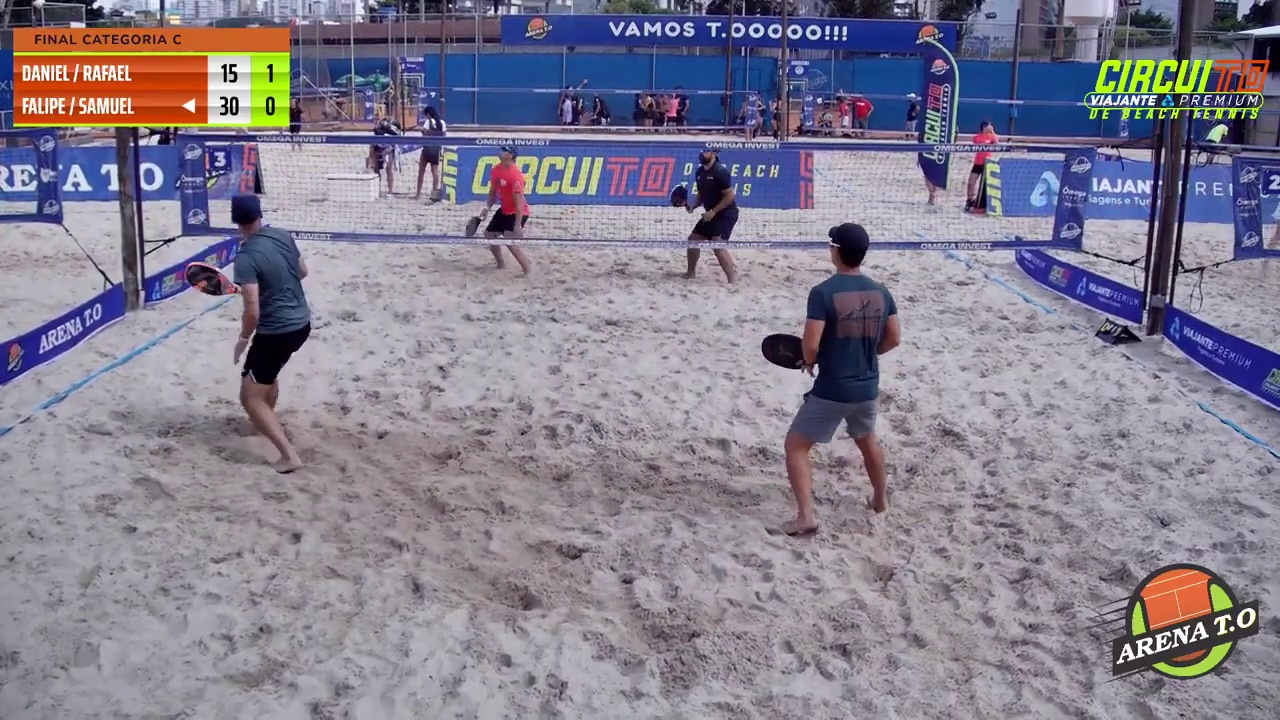court_line: (641, 0, 787, 343)
